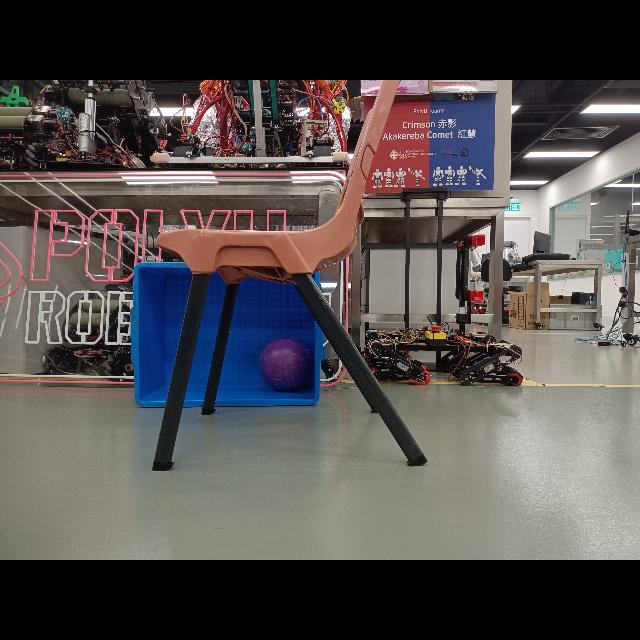P: (259, 339, 313, 393)
